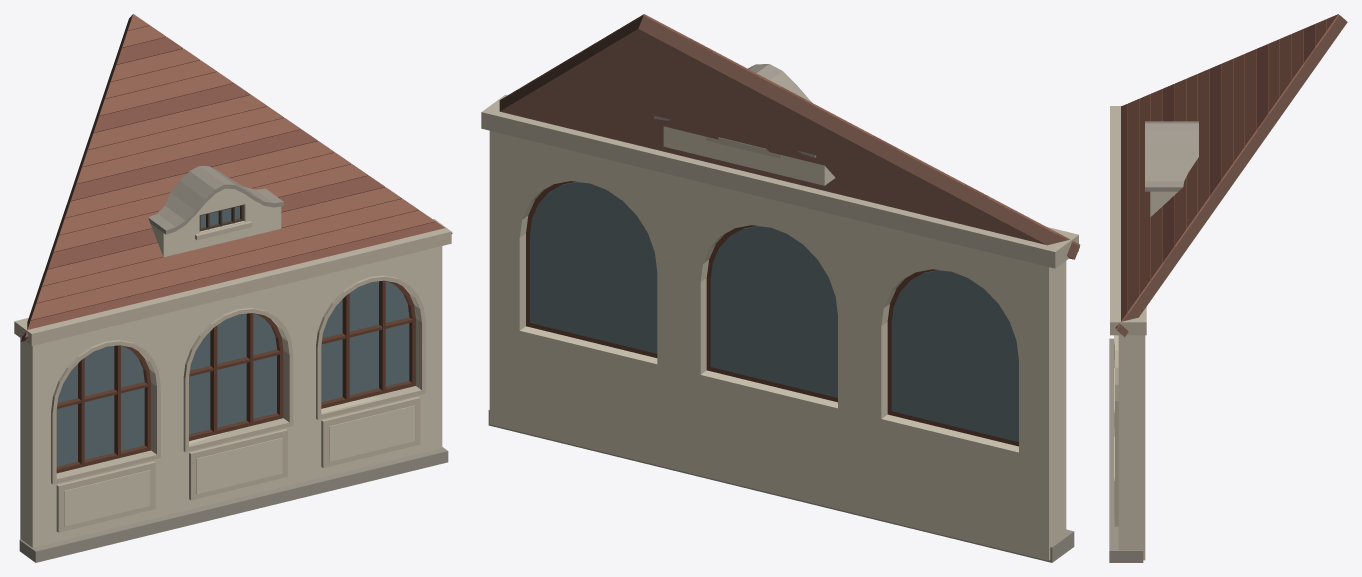
File: changning-fan-garden-no8-three-arched-windows-lod.glb
3 renders of one model, left to right at view 1: azimuth 30°, elevation 25°; view 2: azimuth 150°, elevation 25°; view 3: azimuth 270°, elevation 25°, orthographic. The views are drawn at different scales.
Parts seen in each view (by area): view 1: 范园8号李铭住宅三联券窗与波形老虎窗; view 2: 范园8号李铭住宅三联券窗与波形老虎窗; view 3: 范园8号李铭住宅三联券窗与波形老虎窗.
Boxes of the visible parts, x1,y1,x2,y2 form: 范园8号李铭住宅三联券窗与波形老虎窗: (14,14,452,562); 范园8号李铭住宅三联券窗与波形老虎窗: (481,14,1080,562); 范园8号李铭住宅三联券窗与波形老虎窗: (1109,14,1347,562).
Bounding box in the file's own units: 4.85 × 4.54 × 2.22.
